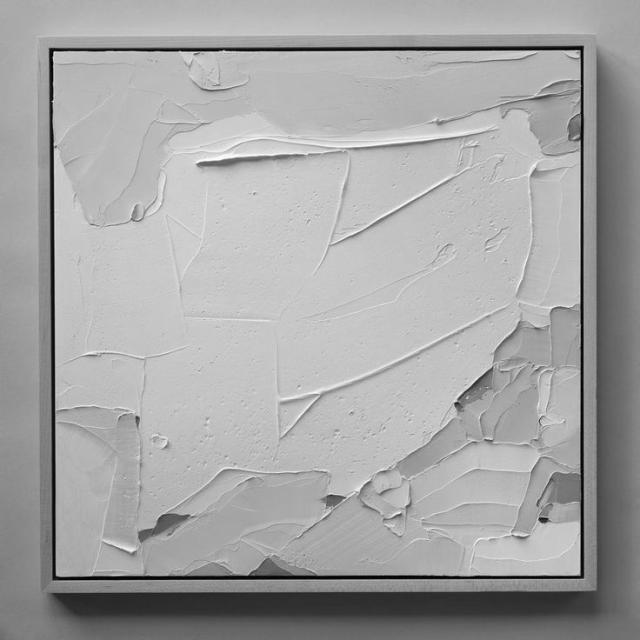trowels marks: (54, 50, 584, 578)
